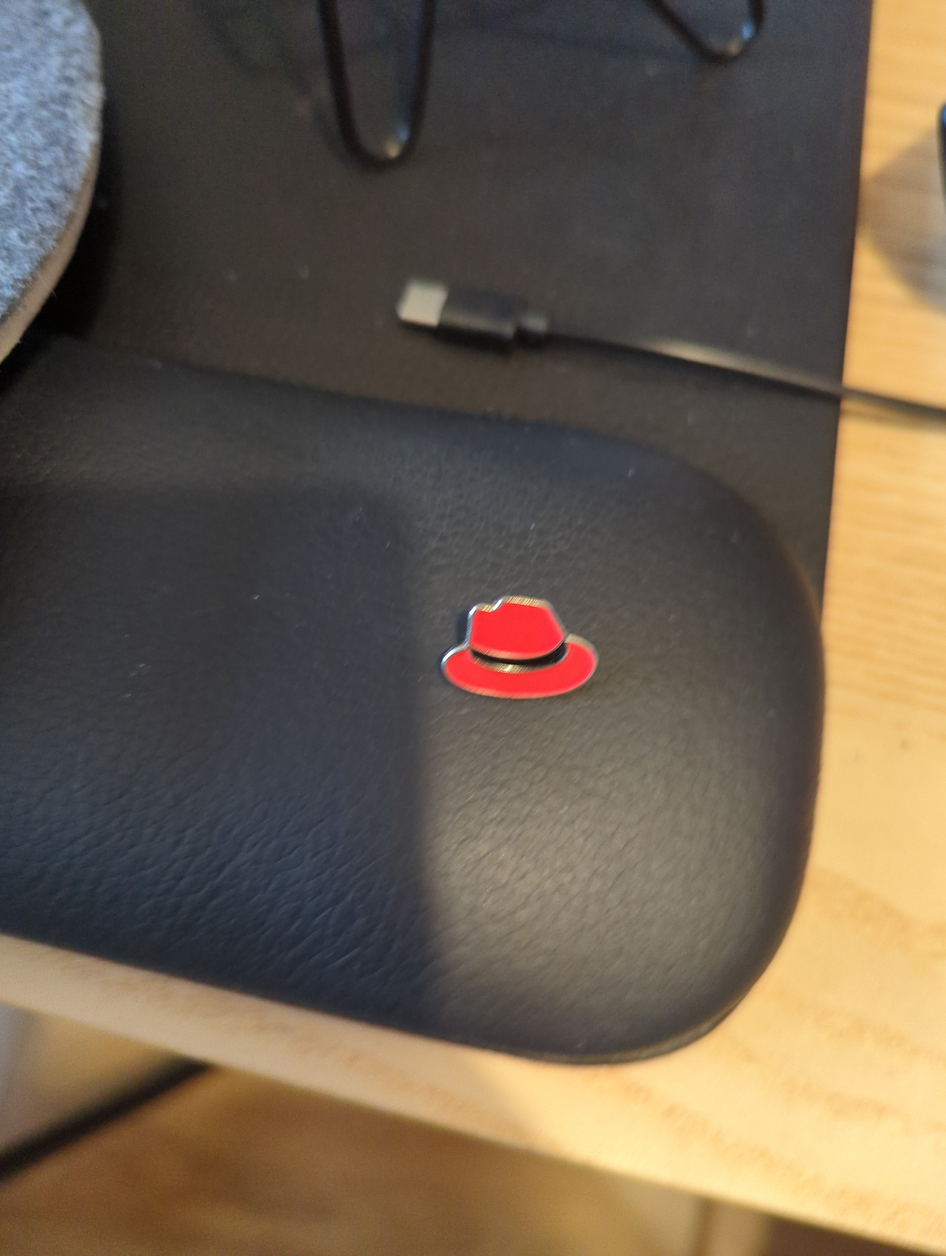Red-Hat: (382, 549, 680, 761)
